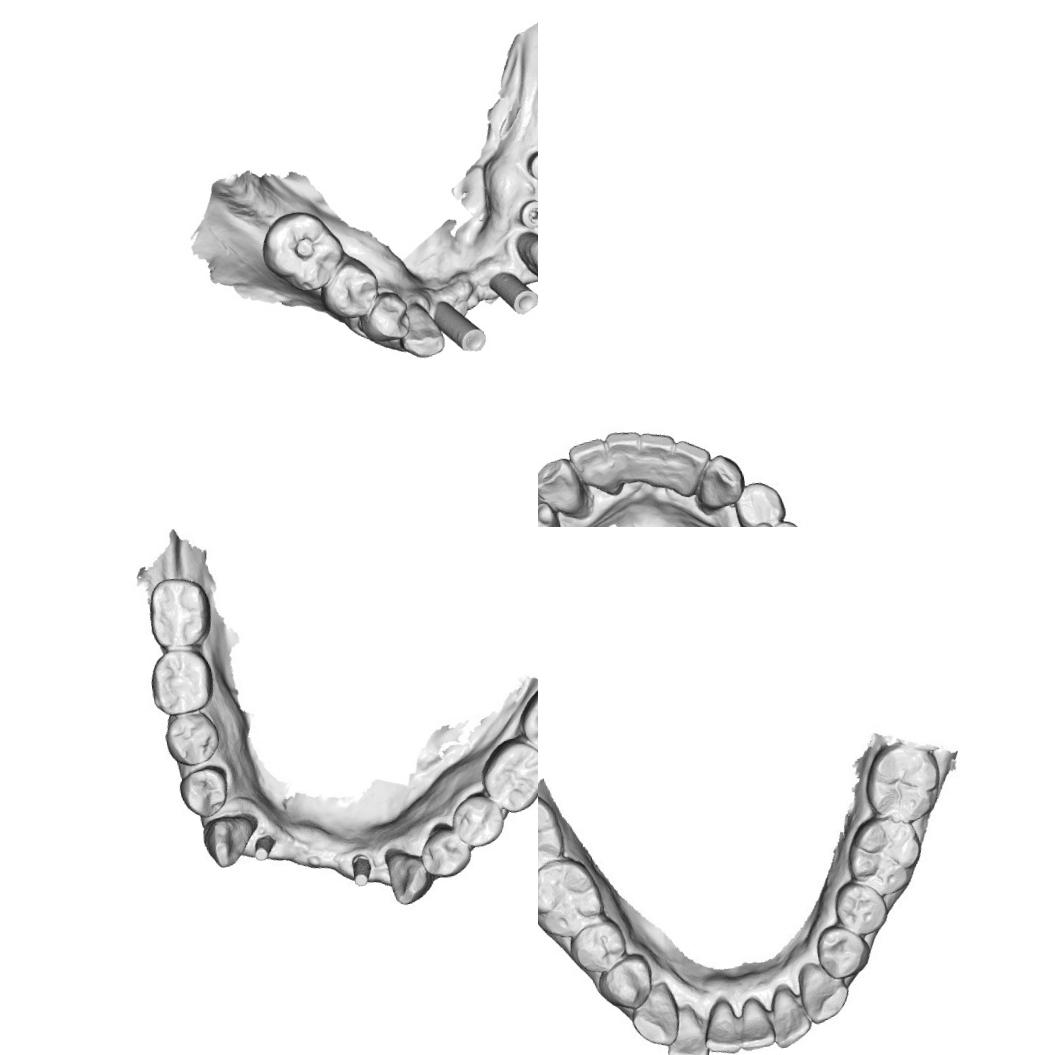abutment: (342, 845, 375, 893), (247, 831, 282, 870)
canine: (792, 954, 852, 1029), (538, 452, 592, 525), (199, 809, 261, 872), (625, 985, 681, 1052), (690, 450, 749, 513), (393, 296, 448, 363), (382, 842, 434, 904), (525, 230, 538, 290)
implant: (432, 293, 490, 359), (484, 262, 538, 320)
implant_minus: (523, 145, 538, 185)
implant_plus: (515, 195, 538, 233)
incisor: (564, 432, 616, 495), (668, 436, 719, 497), (697, 997, 746, 1055), (634, 429, 682, 488), (604, 427, 650, 486), (771, 986, 814, 1048), (661, 1006, 712, 1055), (736, 999, 773, 1050)
molar: (256, 202, 351, 300), (844, 816, 924, 900), (862, 740, 943, 821), (142, 568, 216, 656), (144, 640, 220, 724), (473, 733, 538, 816), (538, 857, 604, 933), (514, 675, 538, 761), (538, 795, 564, 871)
premolar: (315, 253, 384, 325), (445, 788, 515, 854), (158, 706, 225, 774), (418, 815, 480, 888), (176, 759, 238, 823), (815, 924, 877, 982), (356, 288, 415, 346), (566, 917, 624, 973), (596, 954, 656, 1008), (730, 475, 787, 527), (840, 888, 890, 935), (538, 489, 568, 527)
